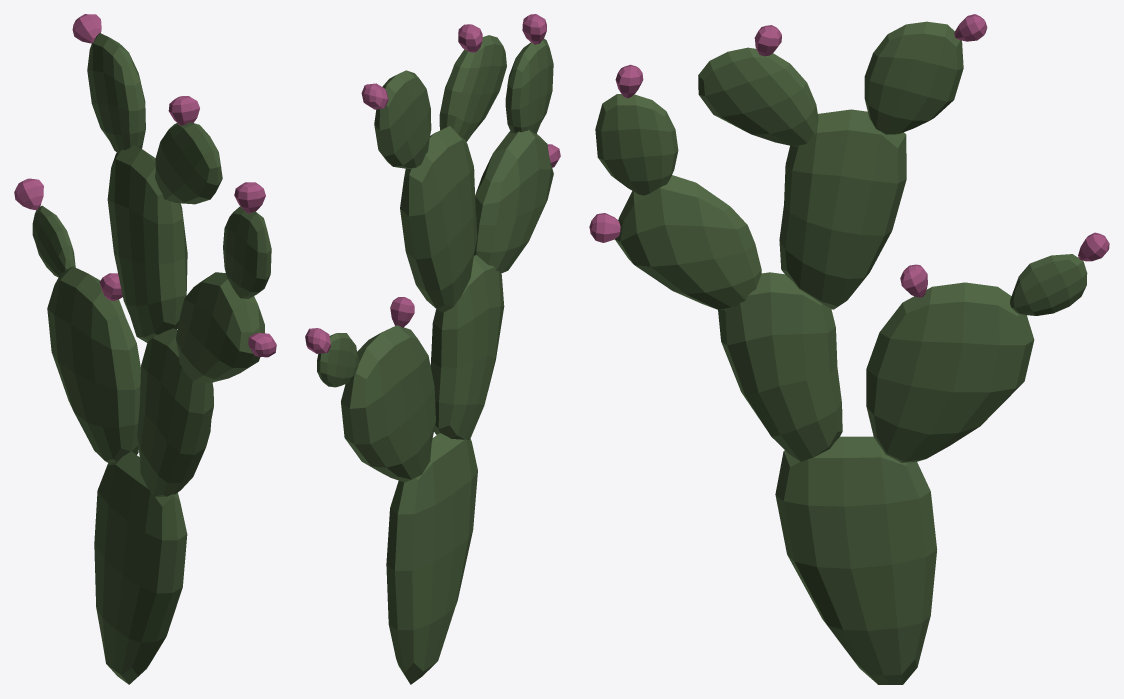
File: Cactus3.glb
3 renders of one model, left to right at view 1: azimuth 30°, elevation 25°; view 2: azimuth 150°, elevation 25°; view 3: azimuth 270°, elevation 25°, orthographic. The views are drawn at different scales.
Visible parts, largest first — view 1: CactusFlowers_4_Cube.008; view 2: CactusFlowers_4_Cube.008; view 3: CactusFlowers_4_Cube.008.
Boxes of the visible parts, x1,y1,x2,y2 form: CactusFlowers_4_Cube.008: [14, 14, 276, 684]; CactusFlowers_4_Cube.008: [305, 14, 560, 684]; CactusFlowers_4_Cube.008: [589, 14, 1109, 684].
Size of the model in its own units: 0.11 by 1.38 by 0.972.
